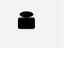human: (15, 9, 36, 31)
